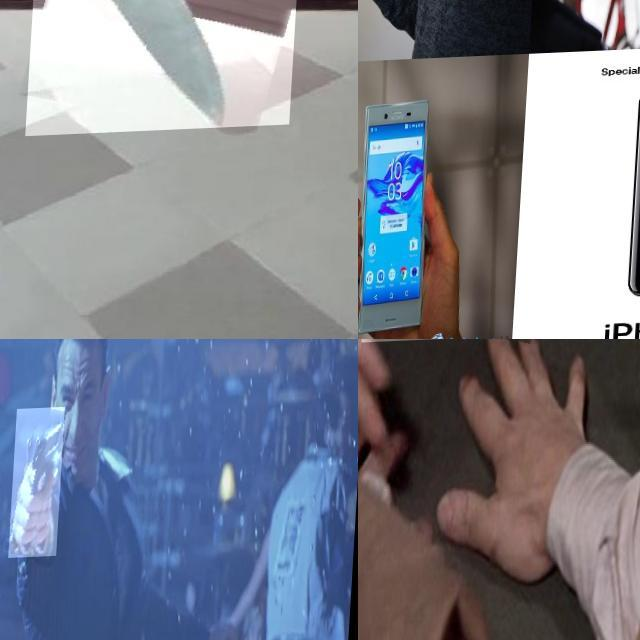-: (30, 0, 304, 138)
gun-knife-thesis - v11 Yolov5 augmented: (364, 339, 579, 440), (12, 410, 67, 560)
